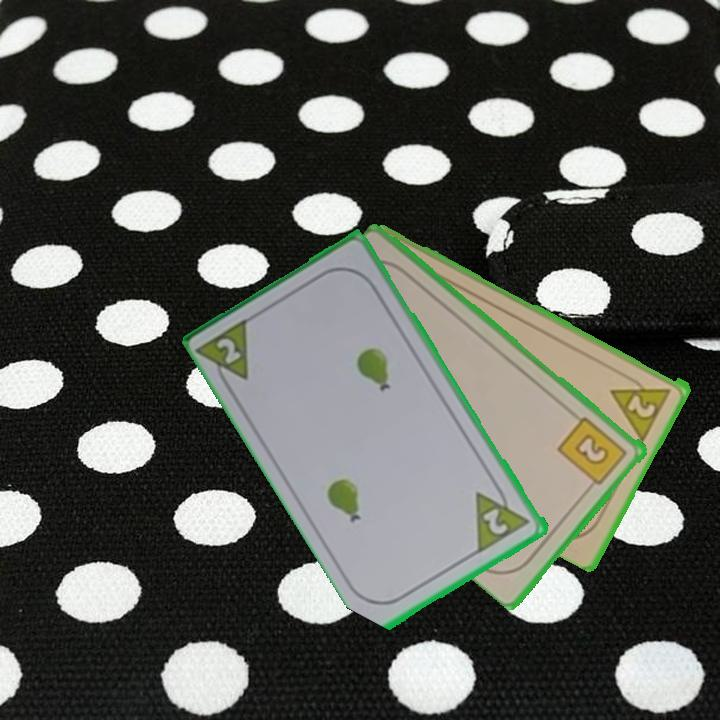2b: (554, 413, 631, 493)
2p: (607, 370, 676, 442), (471, 478, 534, 556), (196, 313, 255, 395)
